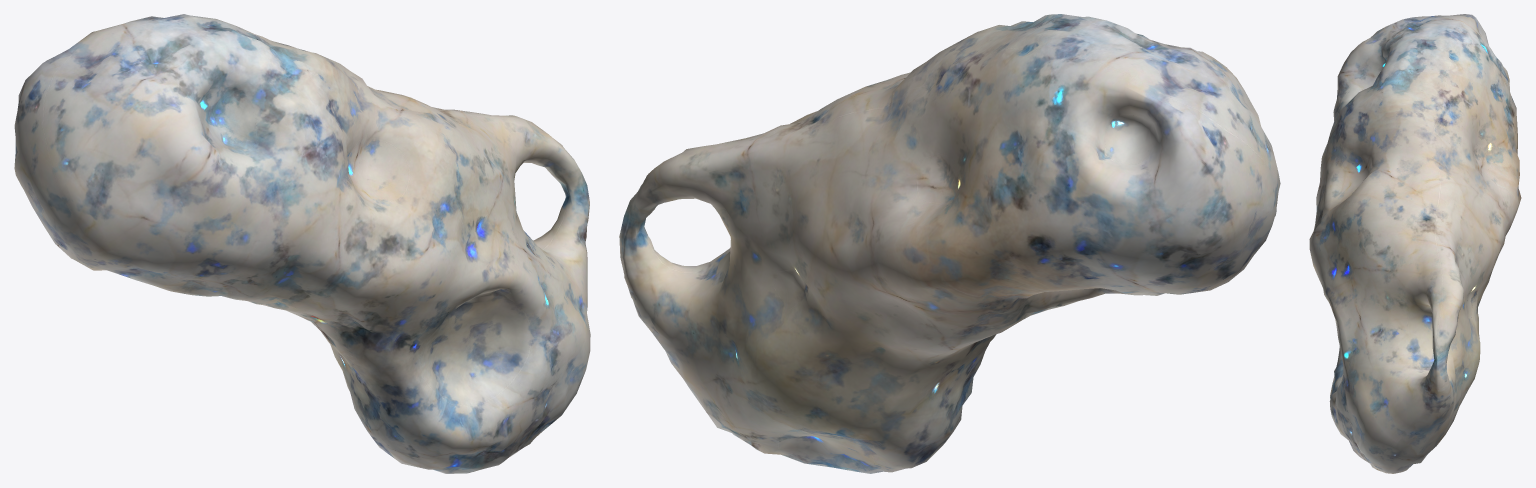
Rendered from asteroid212.gltf.
The picture shows the model from 3 angles, left to right: view 1: azimuth 30°, elevation 25°; view 2: azimuth 150°, elevation 25°; view 3: azimuth 270°, elevation 25°; orthographic projection. The views are drawn at different scales.
Parts seen in each view (by area): view 1: Object_2; view 2: Object_2; view 3: Object_2.
Boxes of the visible parts, x1,y1,x2,y2 form: Object_2: (14,14,590,473); Object_2: (619,14,1280,473); Object_2: (1309,14,1521,473).
Size of the model in its own units: 2.48 by 2 by 1.13.
Materials: 1 (1 with a texture image).
